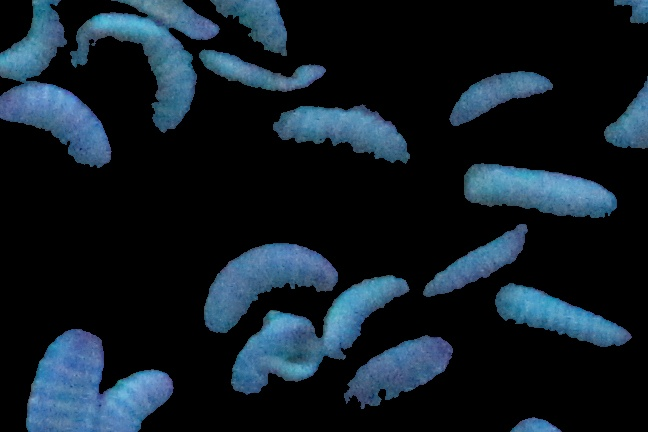larvae: (58, 15, 205, 142), (205, 242, 341, 351), (455, 155, 624, 238), (263, 103, 424, 187), (317, 335, 456, 417), (1, 87, 118, 178), (223, 316, 313, 419), (420, 225, 534, 306), (499, 287, 636, 354), (26, 326, 104, 432), (327, 270, 406, 362), (441, 72, 553, 134), (95, 353, 179, 432), (1, 1, 65, 83)
